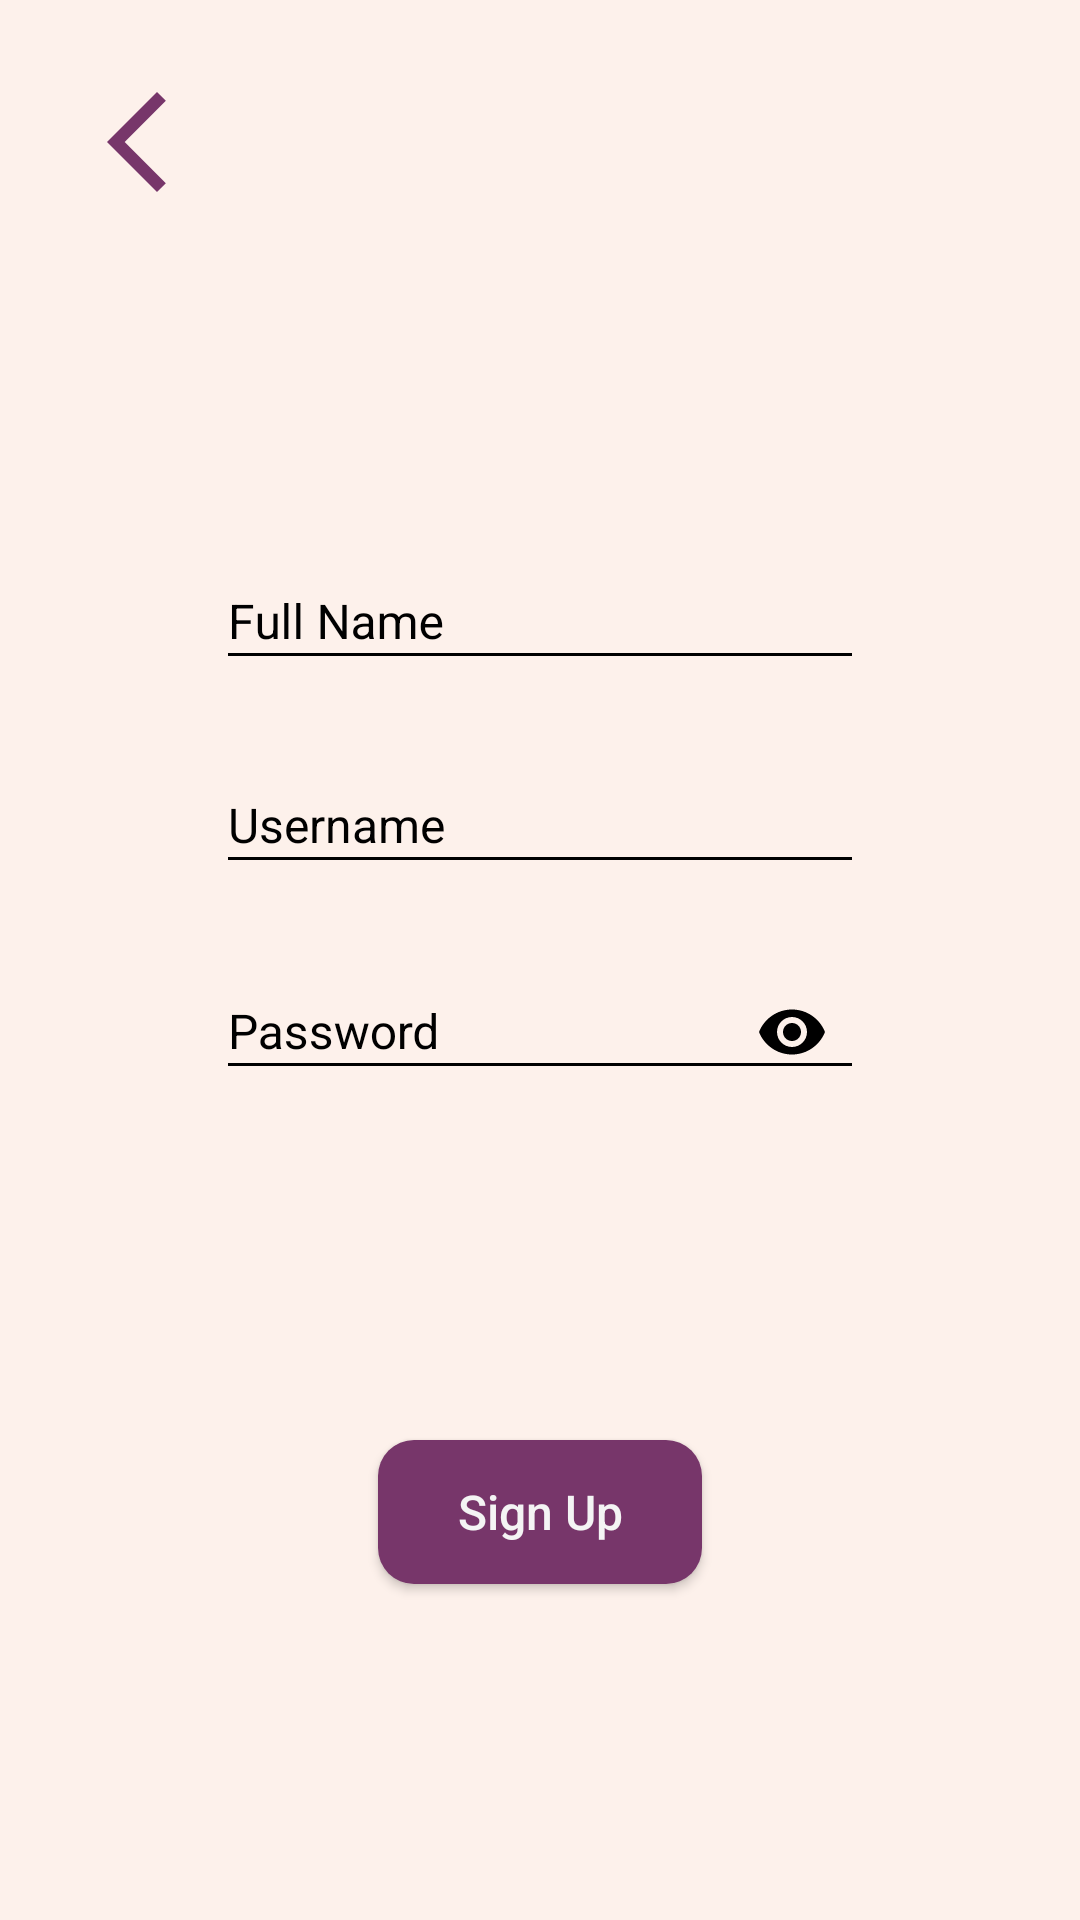

Icon click points for this 1080×1920 phone screenshot, format [x,y]:
back: [136,142]
